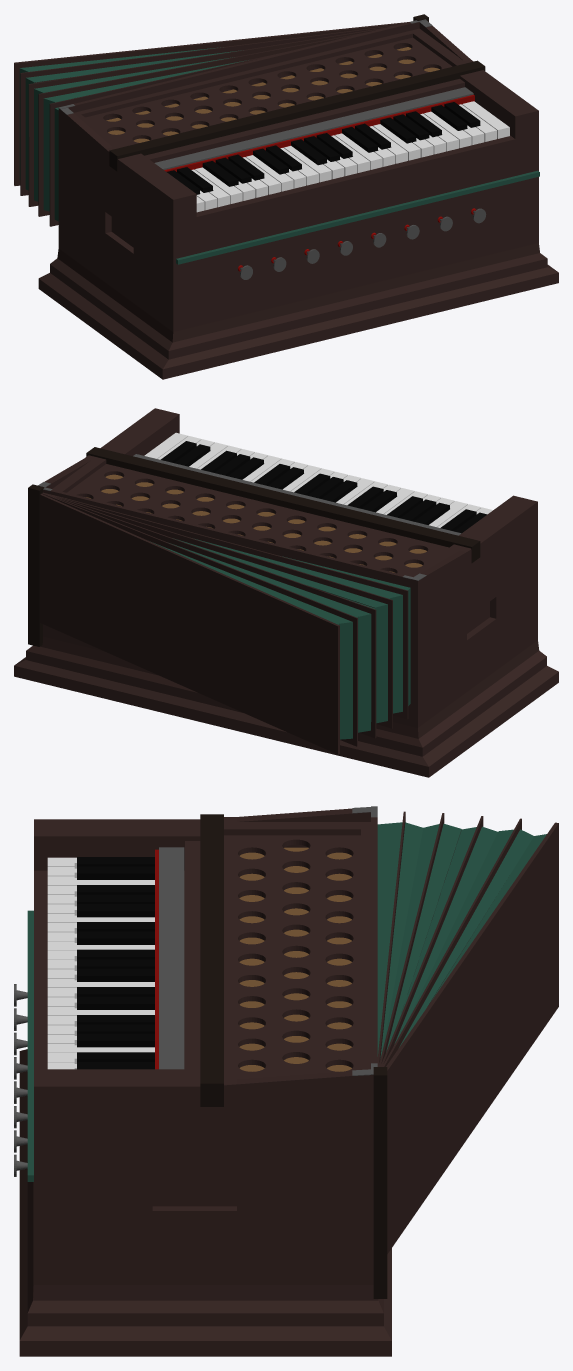
The model's file is HARIMONIUM.glb.
3 renders of one model, top to bottom at view 1: azimuth 30°, elevation 25°; view 2: azimuth 150°, elevation 25°; view 3: azimuth 270°, elevation 25°, orthographic. The views are drawn at different scales.
Parts seen in each view (by area): view 1: harimonium; view 2: harimonium; view 3: harimonium.
Part boxes in pixels (x1,y1,x2,y2): harimonium: (14,14,558,379); harimonium: (14,408,558,777); harimonium: (14,806,558,1356).
Bounding box in the file's own units: 1.06 × 0.4639 × 0.8404.
